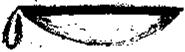Basket: (3, 4, 183, 50)
